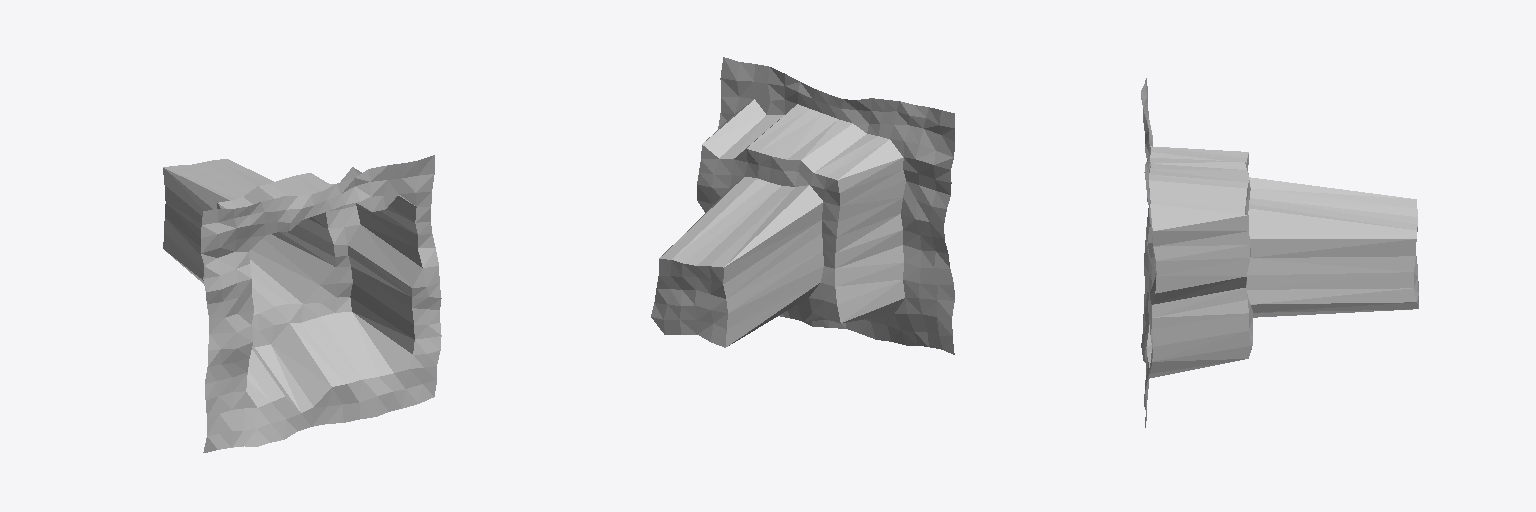
File: pool2.obj
3 views of the same model, side by side, from view 1: azimuth 30°, elevation 25°; view 2: azimuth 150°, elevation 25°; view 3: azimuth 270°, elevation 25° (orthographic).
Size of the model in its own units: 41.84 by 41 by 41.57.